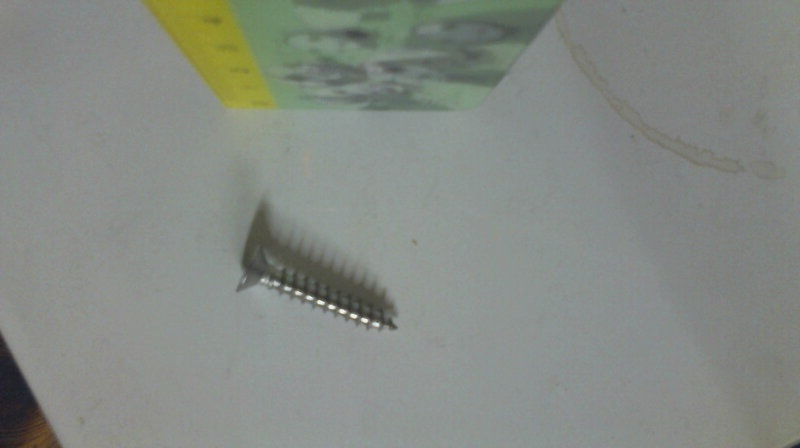S001: (230, 244, 402, 337)
